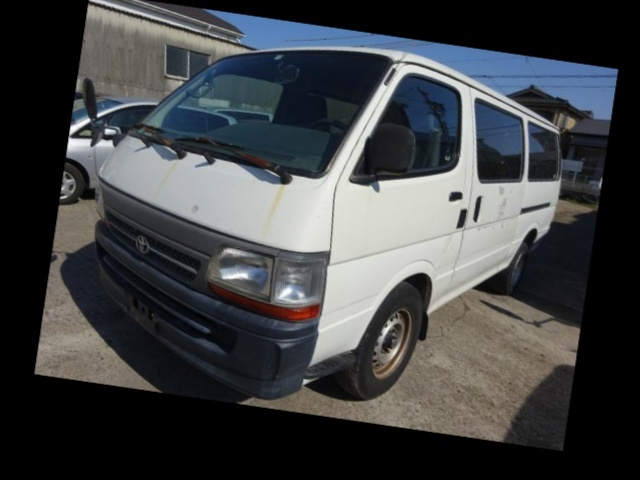van: (70, 12, 573, 428)
